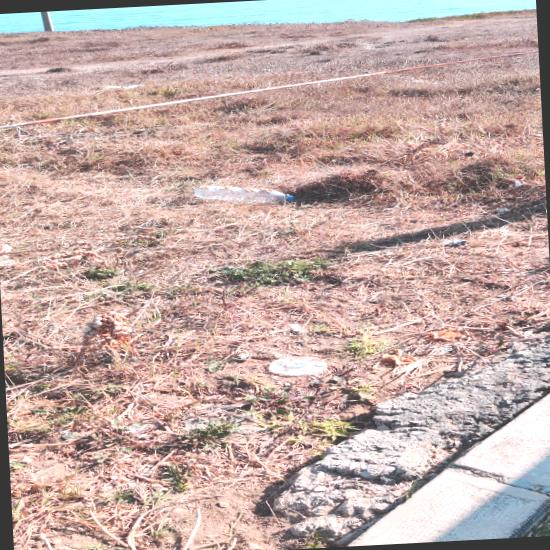Clear plastic bottle: (194, 185, 293, 203)
Plastic bottle cap: (287, 196, 294, 200)
Plastic film: (515, 181, 522, 187)
Plastic lid: (269, 357, 328, 376)
Unlabeled litter: (446, 238, 469, 246), (107, 84, 142, 88)
